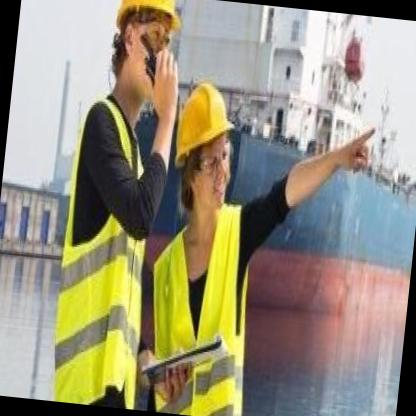helmet: (163, 62, 247, 237), (101, 1, 187, 101)
